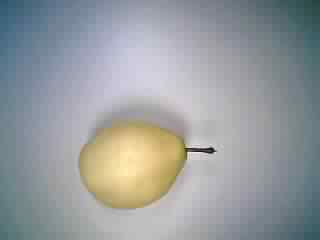pear: (69, 111, 222, 212)
